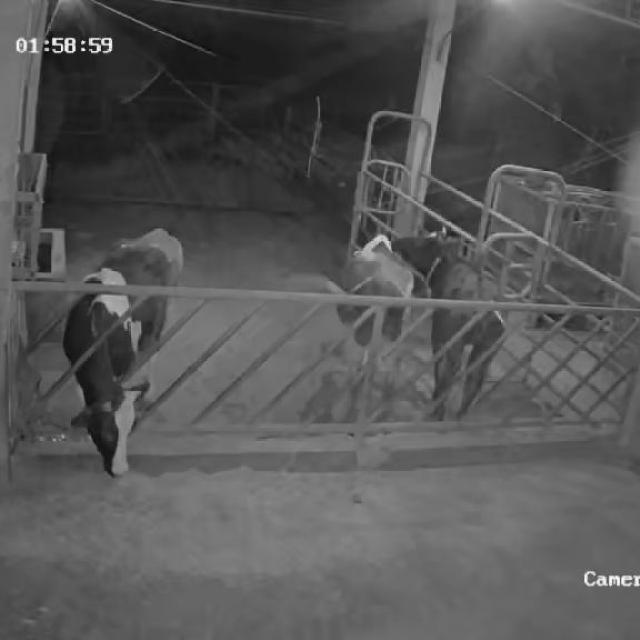feeding: (54, 220, 189, 483)
standing: (331, 231, 420, 429)
